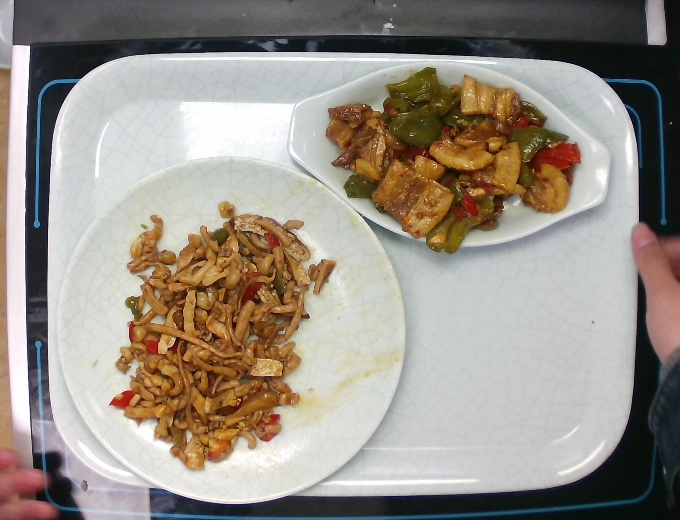JYsf-Da_Yuan_Pan: (49, 153, 411, 510)
JYsf-Yu_Pan: (282, 56, 618, 255)
